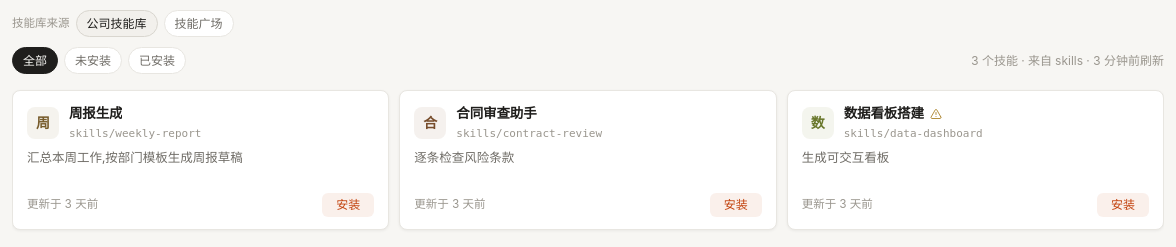
it: 库切换器 · 技能广场固定档(M9 任务 5) › 点击广场固定档进入搜索态:不渲染技能网格,渲染空态提示
Click the button "技能广场". click: [198, 24]
box: 164,10 -> 234,37
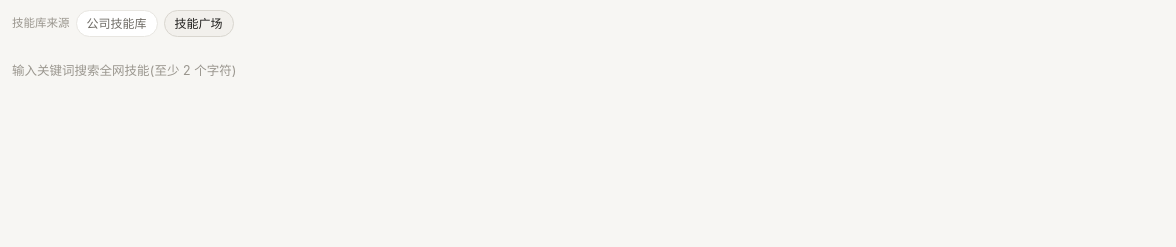
Check: the text "输入关键词搜索全网技能(至少 2 个字符)" is shown, box 12,63 -> 237,78
Check: the button "周报生成" is gone
